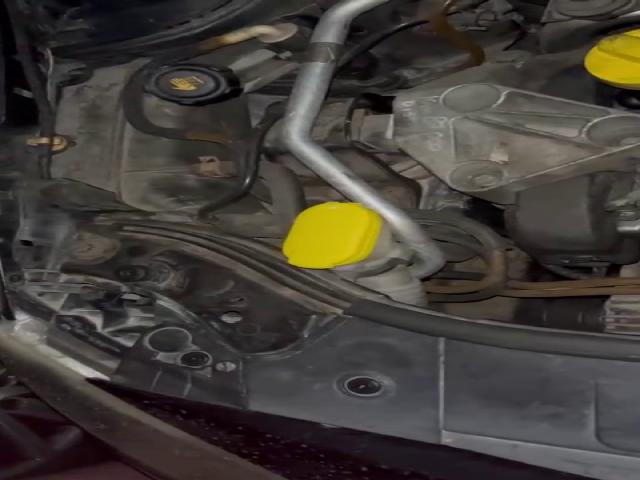antifreeze_tank: (51, 60, 238, 212), (141, 65, 250, 140)
